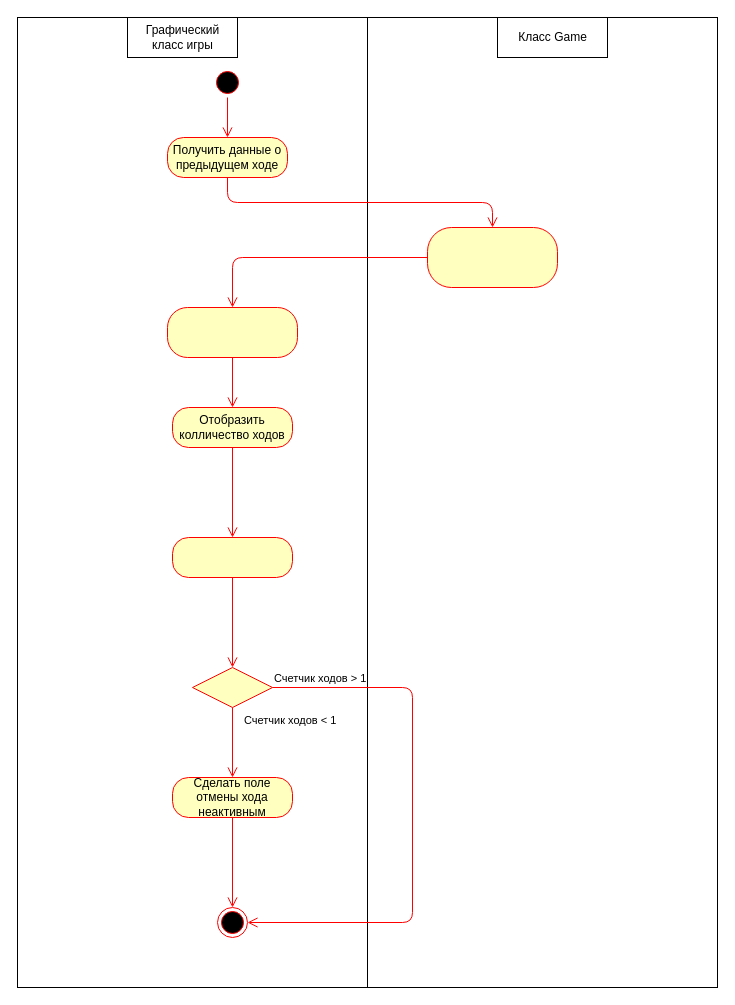
The diagram is 735 pixels wide and 1005 high, and some of its shapes have lost their labels. Here are the shapes that lost their labels. From the top down, the box of each, then its label:
(426, 226, 558, 288): Обновить текущие данные на предыдущие
(166, 306, 298, 358): Уменьшить количество ходов на единицу
(172, 536, 292, 578): Обновить поле кнопок
